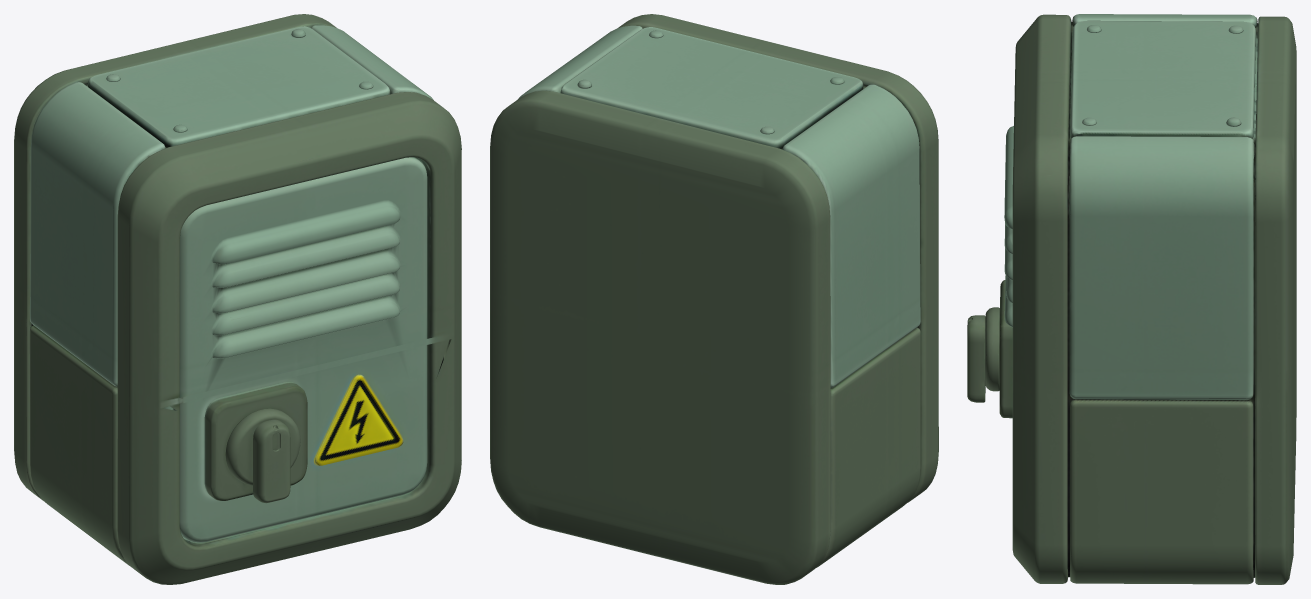
The model's file is obstacle_utility_box.glb.
The picture shows the model from 3 angles, left to right: view 1: azimuth 30°, elevation 25°; view 2: azimuth 150°, elevation 25°; view 3: azimuth 270°, elevation 25°; orthographic projection. The views are drawn at different scales.
Visible parts, largest first — view 1: tripo_4957cda7_c570_4810_b9d5_eb10e147a894; view 2: tripo_4957cda7_c570_4810_b9d5_eb10e147a894; view 3: tripo_4957cda7_c570_4810_b9d5_eb10e147a894.
Boxes of the visible parts, <box> form: tripo_4957cda7_c570_4810_b9d5_eb10e147a894: <box>14,14,461,584</box>; tripo_4957cda7_c570_4810_b9d5_eb10e147a894: <box>490,14,938,584</box>; tripo_4957cda7_c570_4810_b9d5_eb10e147a894: <box>967,14,1296,584</box>.
Bounding box in the file's own units: 0.7886 × 0.9995 × 0.6519.
Materials: 1 (1 with a texture image).
